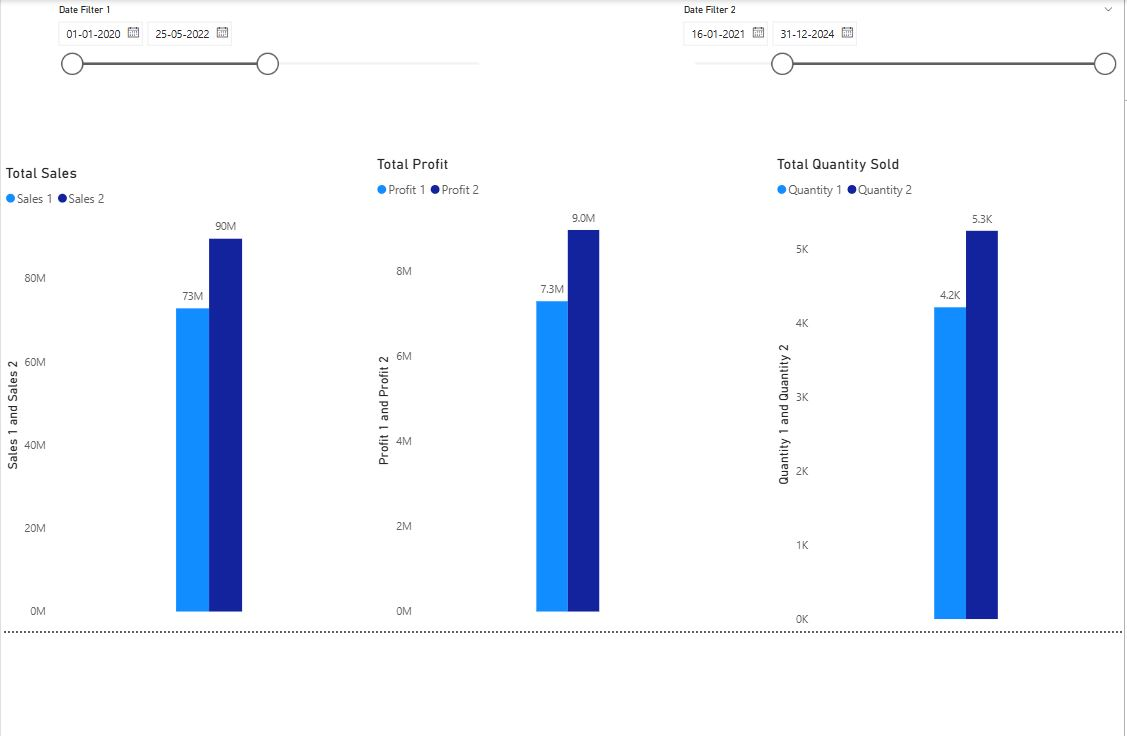

The dashboard page shown, as its layout file describes it:
{"tool":"powerbi","page":{"name":"Edit Interaction","canvas":[1280,720],"ordinal":2},"visuals":[{"type":"clusteredColumnChart","title":"Total Sales","fields":{"Y":["Sum(Fact Table.Net)","DateTable 1.Sum of Net Sales"]},"box":[0,186.7,423.3,524.5],"z":2},{"type":"slicer","fields":{"Values":["DateTable 1.Date"]},"box":[52.1,0,514.6,115.3],"z":3},{"type":"slicer","fields":{"Values":["DateTable 2.Date"]},"box":[765.4,0,514.6,115.5],"z":4},{"type":"clusteredColumnChart","title":"Total Profit","fields":{"Y":["Sum(Fact Table.Profit)","Measures Table.Total Profit"]},"box":[423.3,176.7,400.5,534.5],"z":5},{"type":"clusteredColumnChart","title":"Total Quantity Sold","fields":{"Y":["Sum(Fact Table.Units Sold)","Measures Table.Quantity Sold"]},"box":[879.5,176.7,400.5,543.1],"z":6}]}

Visuals, with their boxes on the page's 1280x720 design canvas (x1, y1, x2, y2). These are canvas units, not pixel positions in the 1127x736 screenshot, which may show the page scaled, cropped or inside an application window:
"Total Sales" clusteredColumnChart: 0/187/423/711
slicer - DateTable 1.Date: 52/0/567/115
slicer - DateTable 2.Date: 765/0/1280/116
"Total Profit" clusteredColumnChart: 423/177/824/711
"Total Quantity Sold" clusteredColumnChart: 880/177/1280/720
